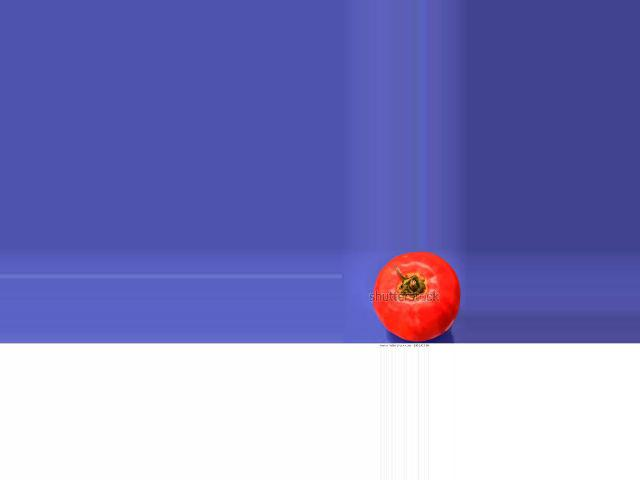tomato: (373, 252, 461, 340)
